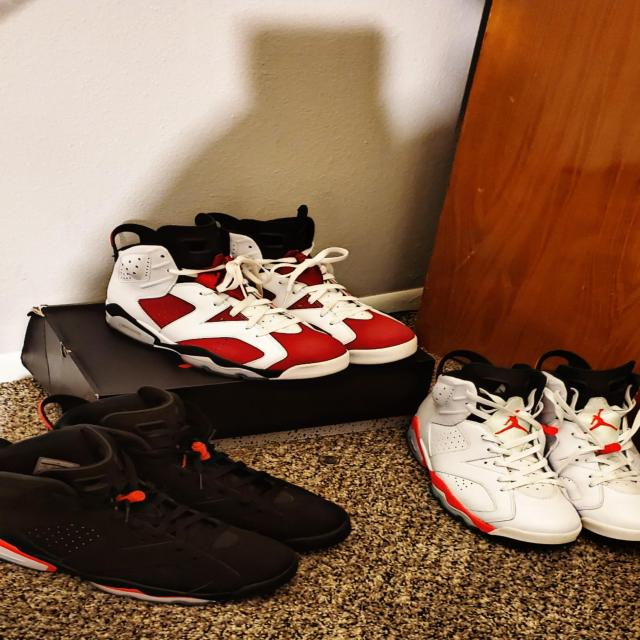shoe: (0, 419, 319, 619), (39, 378, 373, 568), (92, 211, 360, 392), (389, 345, 597, 566), (184, 197, 432, 376)
